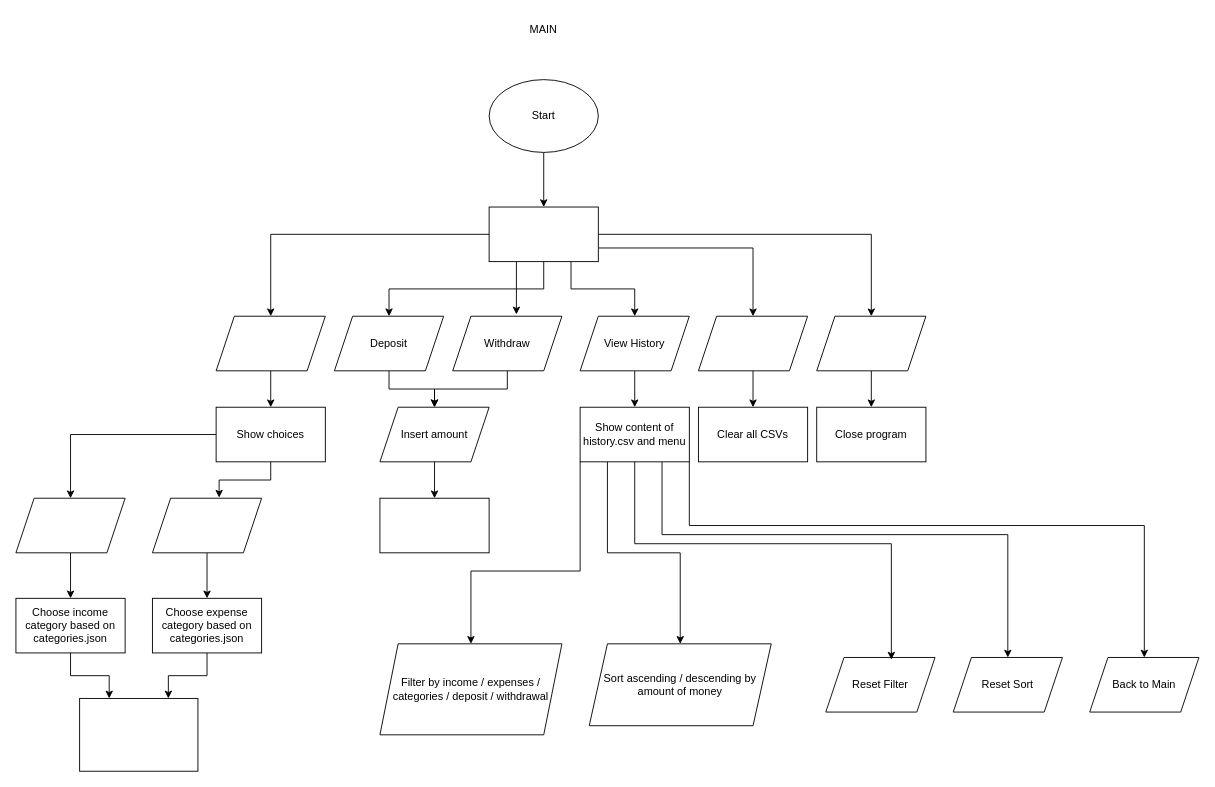
Image size: 1215x787. Some labels were removed from this diagram. The shapes that lost their labels are listed below. From the top down, each one's centre as x and y in pixels, then its label:
(x=543, y=234): Show current money, income, expense, and saving
(x=270, y=343): Insert New Data
(x=753, y=343): Reset
(x=871, y=343): Quit
(x=70, y=525): New Income
(x=207, y=525): New Expenses
(x=434, y=525): Make necessary changes to saving.csv and history.csv
(x=138, y=734): Make necessary changes to income.csv or expenses.csv, and history.csv
